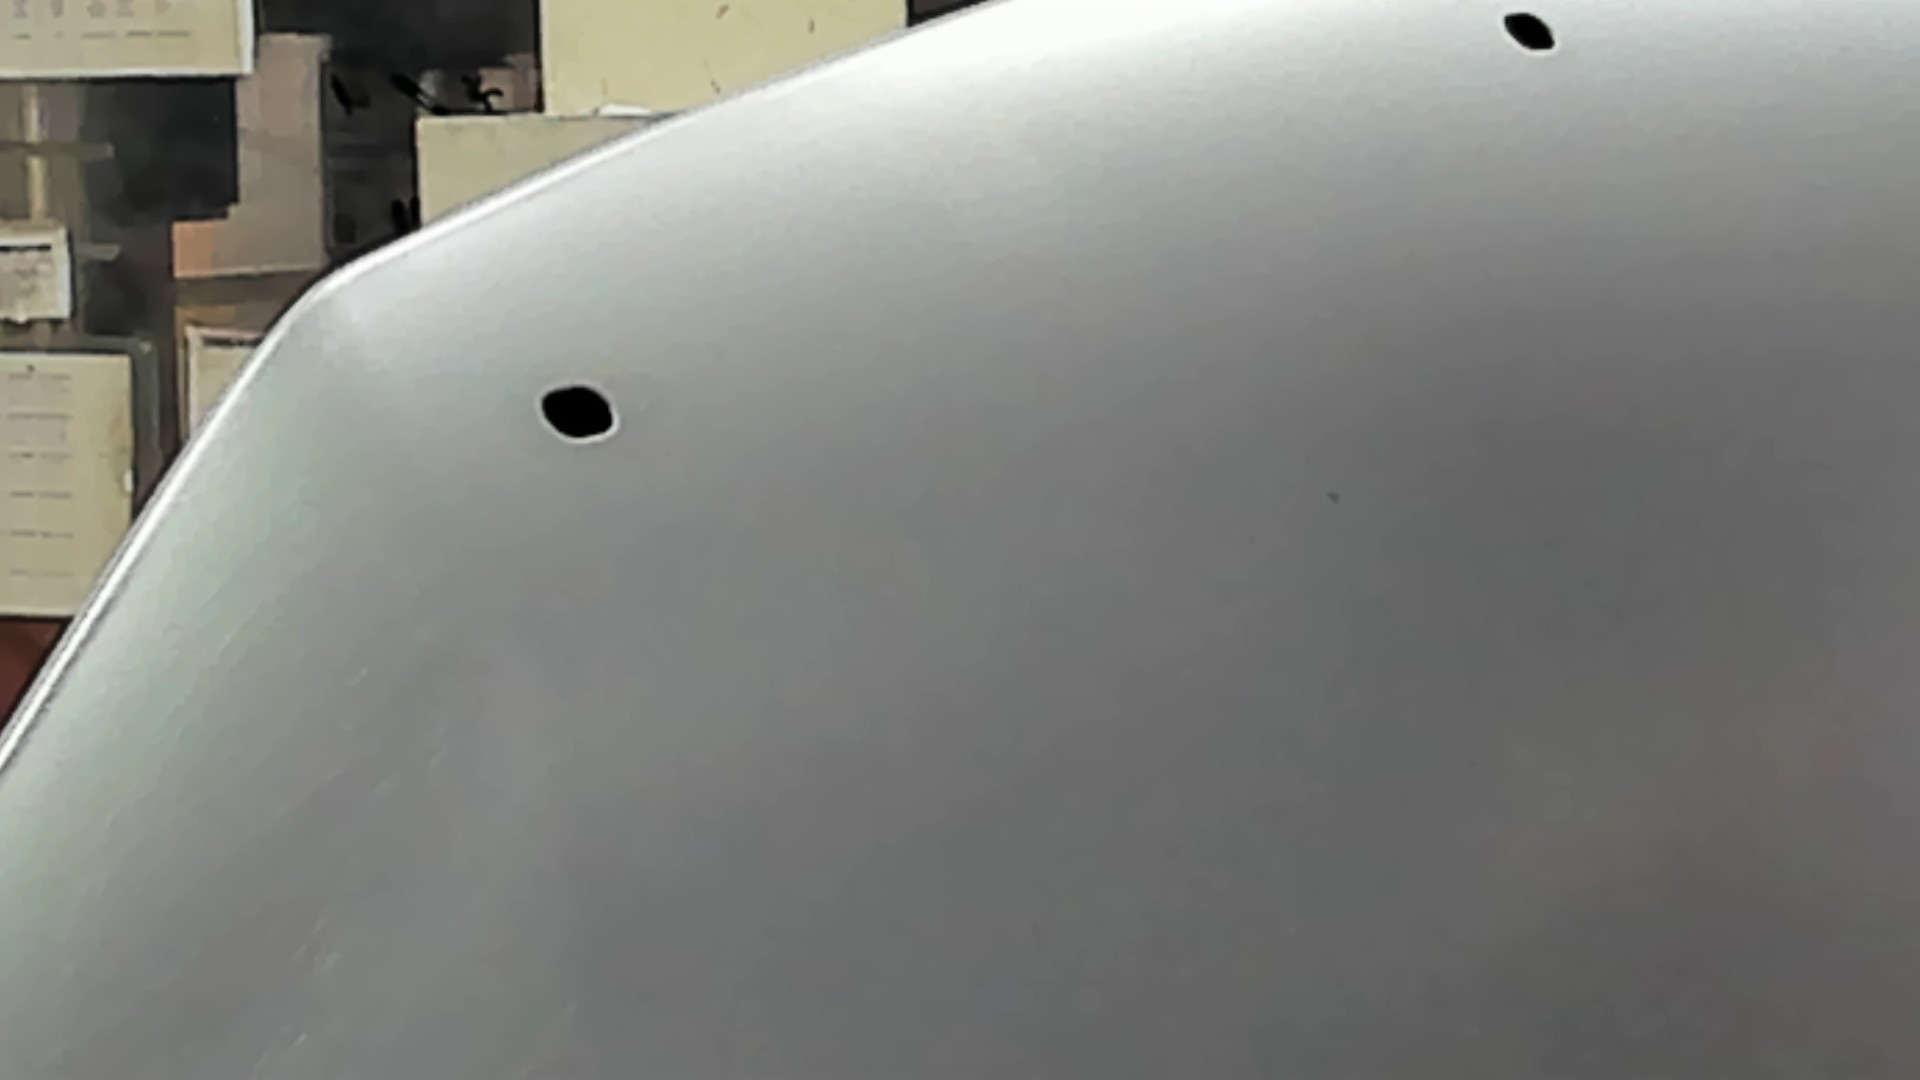amorfo: (535, 386, 624, 442), (1501, 9, 1559, 53)
